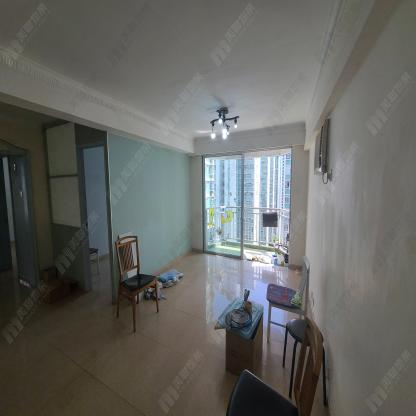AC: (314, 118, 329, 175)
